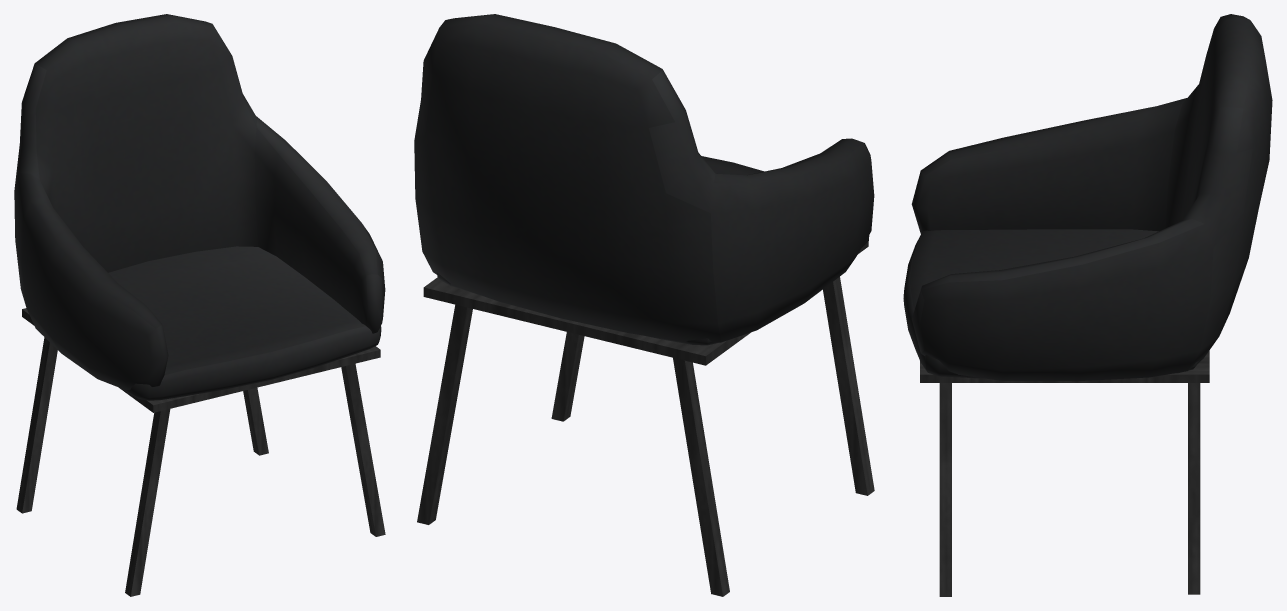
File: chair_01.fbx
3 views of the same model, side by side, from view 1: azimuth 30°, elevation 25°; view 2: azimuth 150°, elevation 25°; view 3: azimuth 270°, elevation 25° (orthographic). The views are drawn at different scales.
Visible parts, largest first — view 1: chair_01; view 2: chair_01; view 3: chair_01.
Part boxes in pixels (x1,y1,x2,y2): chair_01: (14,14,385,596); chair_01: (414,14,874,596); chair_01: (903,14,1272,596).
Size of the model in its own units: 70.91 by 104 by 71.34.
